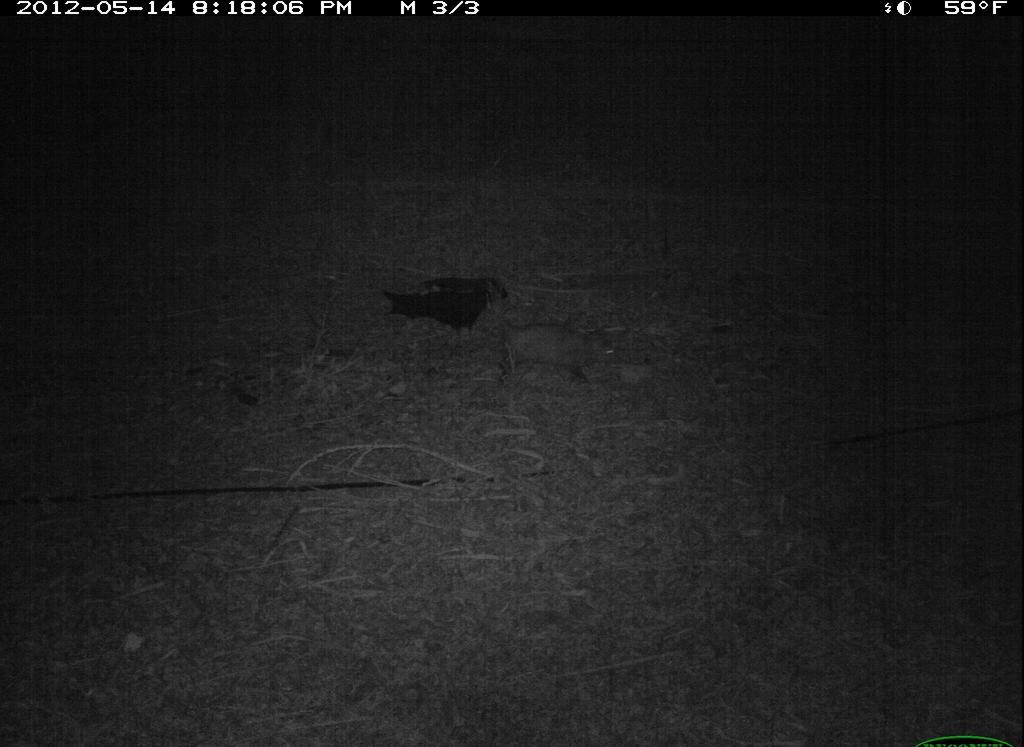opossum: (469, 300, 625, 399)
